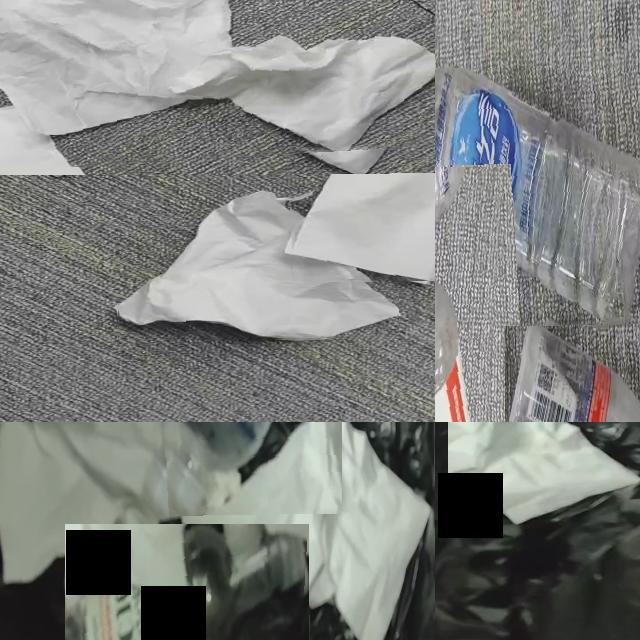bottle: (435, 68, 640, 326), (65, 524, 306, 640), (509, 324, 640, 422)
paper: (0, 0, 435, 156), (180, 422, 430, 640), (118, 192, 399, 339), (0, 422, 174, 581), (291, 111, 435, 281), (435, 422, 640, 524), (106, 503, 158, 573), (183, 471, 218, 512)
